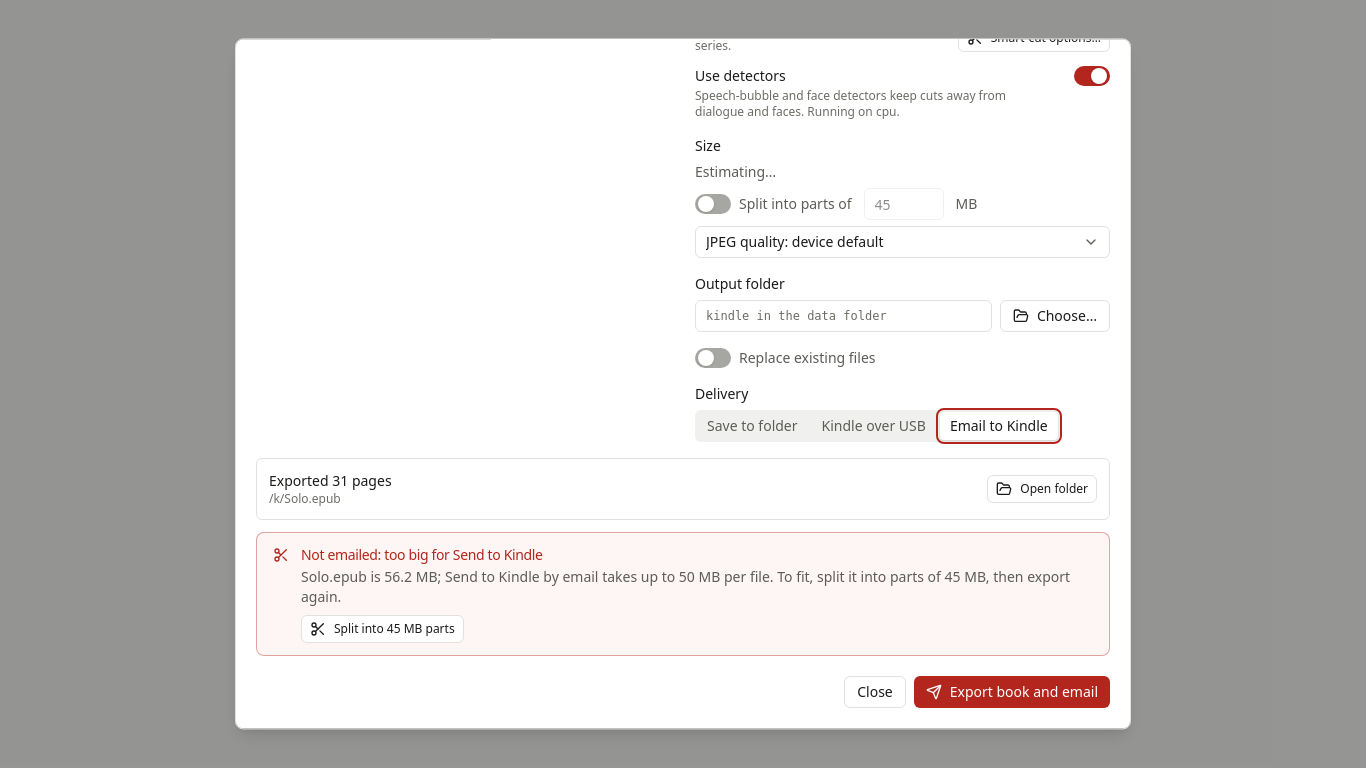
Test: export dialog: a written book over the email limit › is not emailed, and the split it offers emails every part of the next export
Earlier steps of the test are not shown.
Later steps or results of the test are not shown.
(page scrolled)
Expected: the text "Not emailed: too big for Send to Kindle" is shown, [301,545,543,564]
Click the button "Split into 45 MB parts".
click(382, 629)  # box [301,615,464,643]
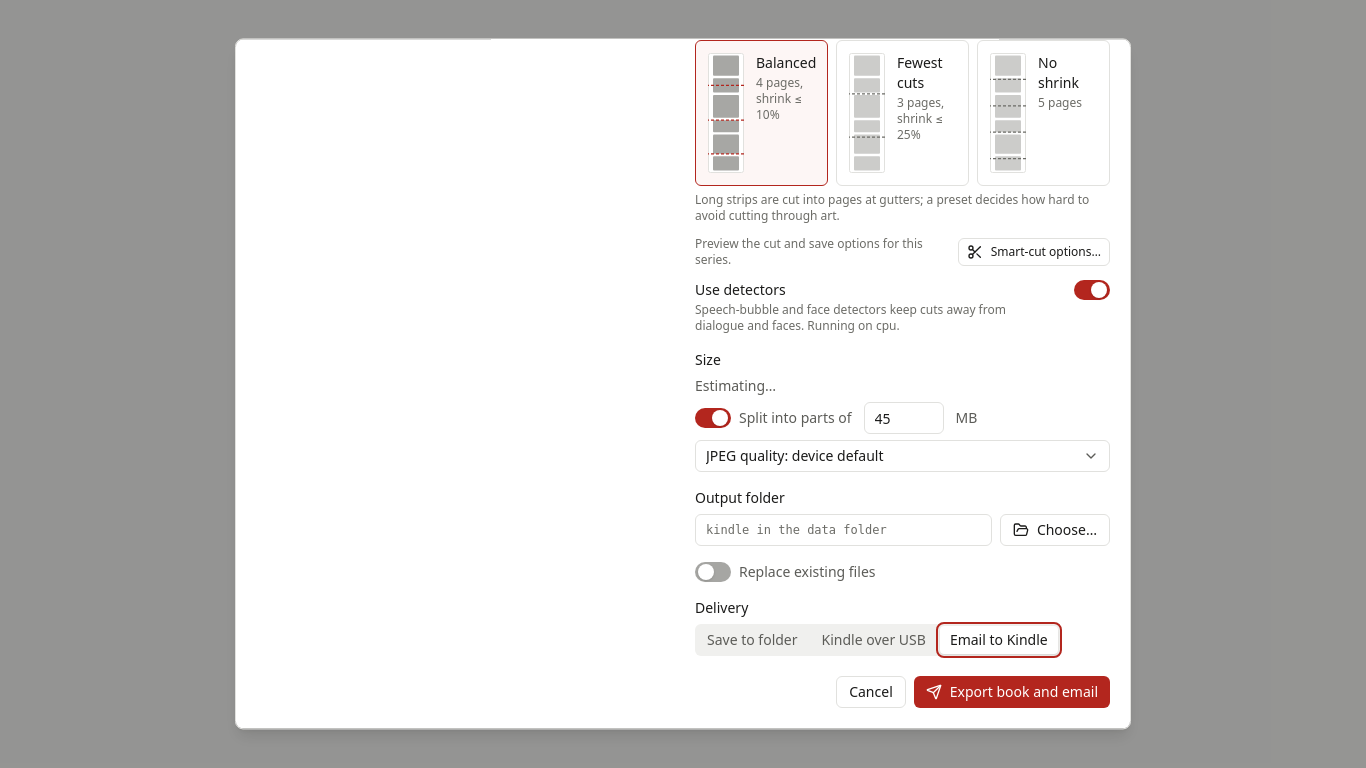
Expected: the button "Export book and email" is enabled, [914,676,1110,708]
Result: the text "Not emailed" is gone
